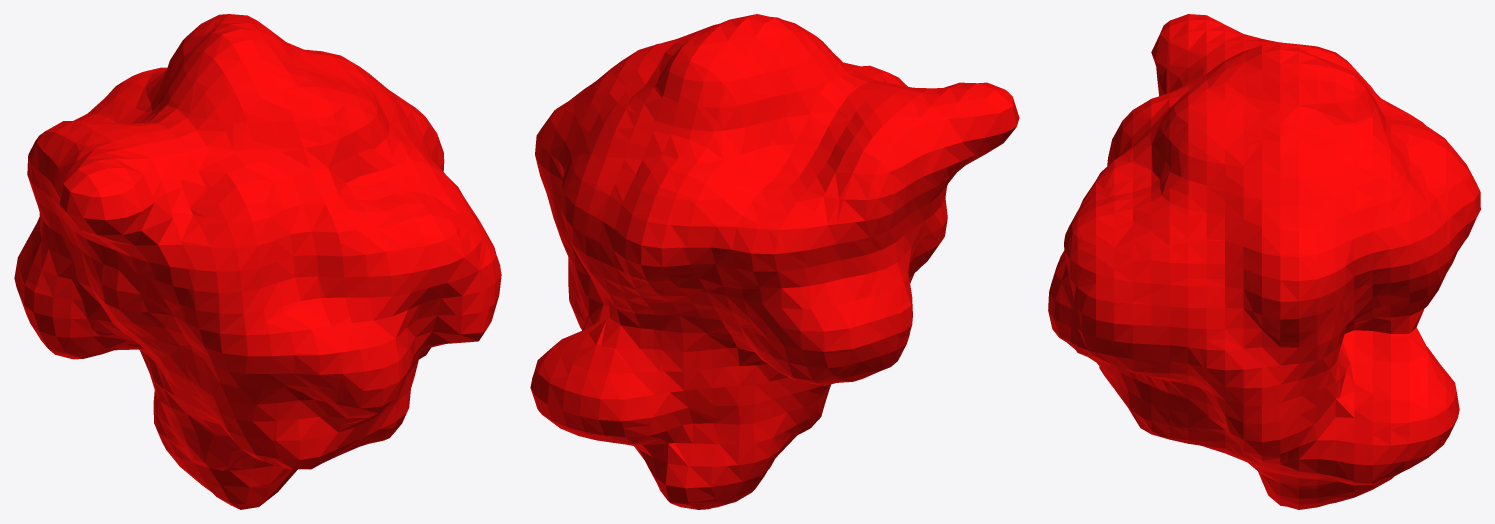
File: metAS_coarse.dae
3 renders of one model, left to right at view 1: azimuth 30°, elevation 25°; view 2: azimuth 150°, elevation 25°; view 3: azimuth 270°, elevation 25°, orthographic. The views are drawn at different scales.
Visible parts, largest first — view 1: metAS; view 2: metAS; view 3: metAS.
Boxes of the visible parts, x1=… form: metAS: x1=14, y1=14, x2=501, y2=509; metAS: x1=530, y1=14, x2=1019, y2=509; metAS: x1=1048, y1=14, x2=1480, y2=509.
Size of the model in its own units: 55.62 by 60.41 by 52.61.
